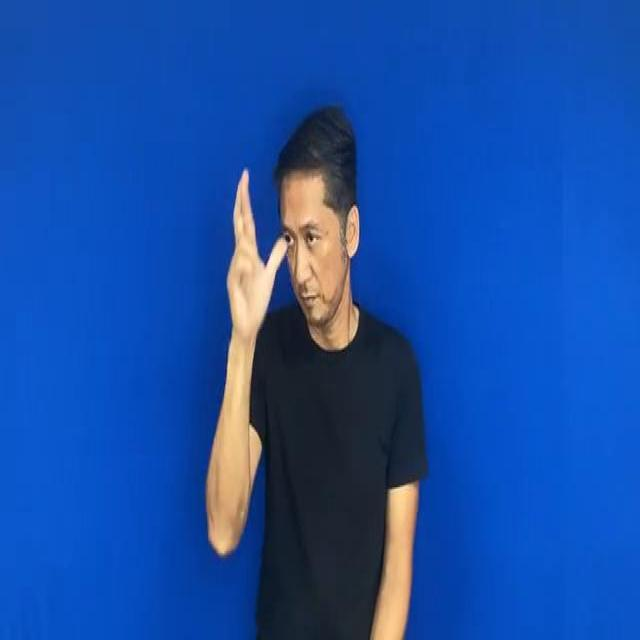chicken: (221, 157, 284, 334)
